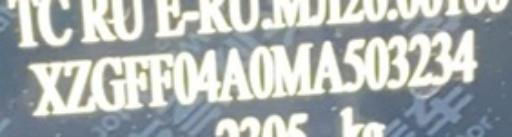letter: (270, 43, 314, 98), (91, 54, 125, 113), (29, 61, 65, 114), (310, 39, 342, 98), (244, 47, 274, 102), (220, 49, 250, 104), (406, 32, 434, 89), (120, 56, 150, 109), (62, 60, 92, 113), (146, 54, 174, 109), (362, 38, 390, 91), (170, 53, 200, 102), (454, 29, 480, 84), (384, 36, 410, 91), (430, 29, 454, 86), (196, 51, 222, 102), (340, 38, 364, 93)
